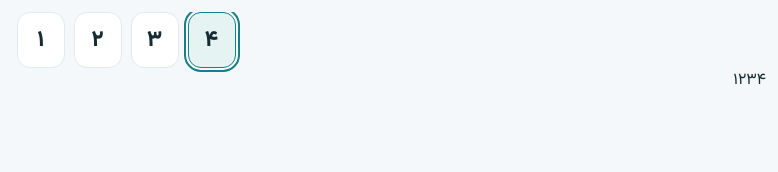
Mkx UI › accepts Persian digit OTP paste and Backspace
Expected: the text "1234" is shown, [733,68,766,93]
Expected: the field named "رقم 1 از 4" holds "۱", [16,12,64,68]
Press Backspace in the field named "رقم 4 از 4", box [188,12,236,68]
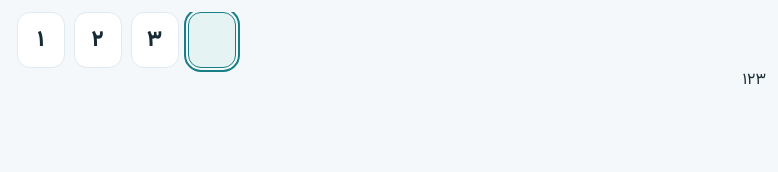
Expected: the text "123" is shown, [742,68,766,93]
Now the field named "رقم 4 از 4" is empty
Type "٥" into the field named "رقم 4 از 4".
click(212, 40); type("٥")  # box [188,12,236,68]
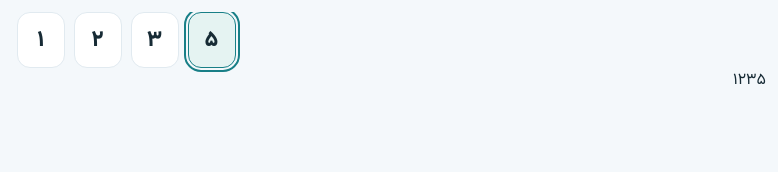
Now the text "1235" is shown, box [733,68,766,93]
Now the field named "رقم 4 از 4" holds "۵", box [188,12,236,68]
